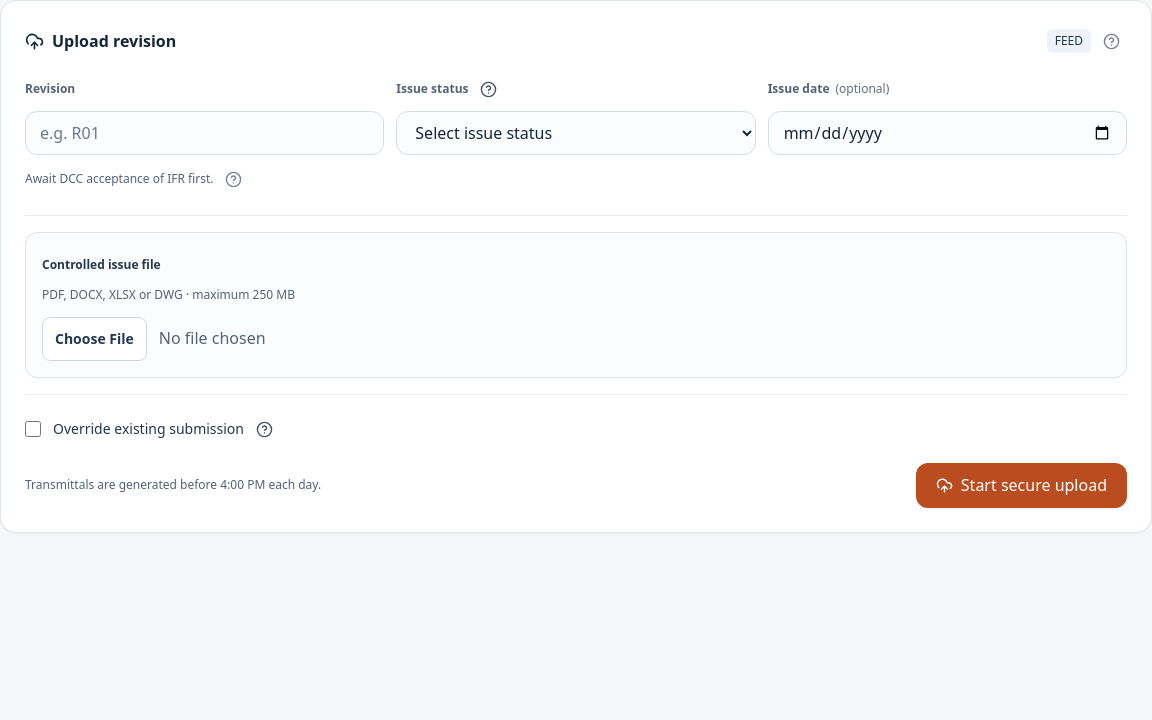
Test: submission override checkbox › defaults off and displays the daily manual transmittal reminder
Type "A" into the field labelled "Revision" at (205, 133), box x1=25 y1=111 x2=384 y2=155
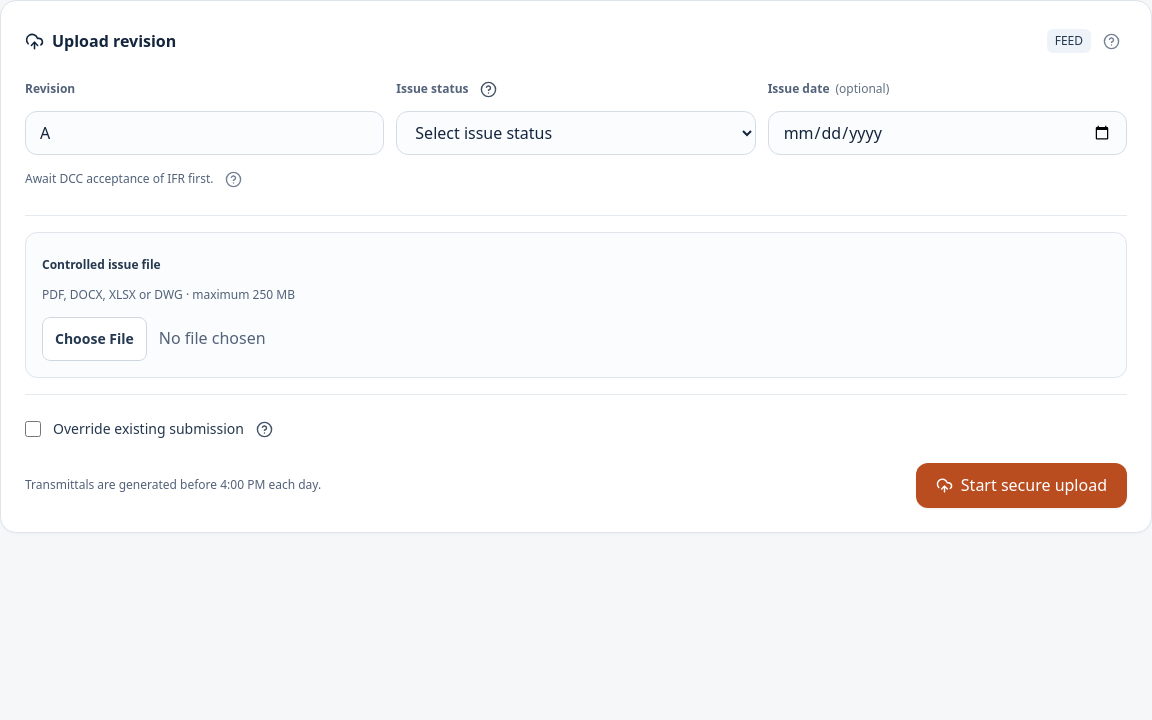
Select "Issued for Review (IFR)" in the dropdown at (576, 133), box x1=396 y1=111 x2=756 y2=155
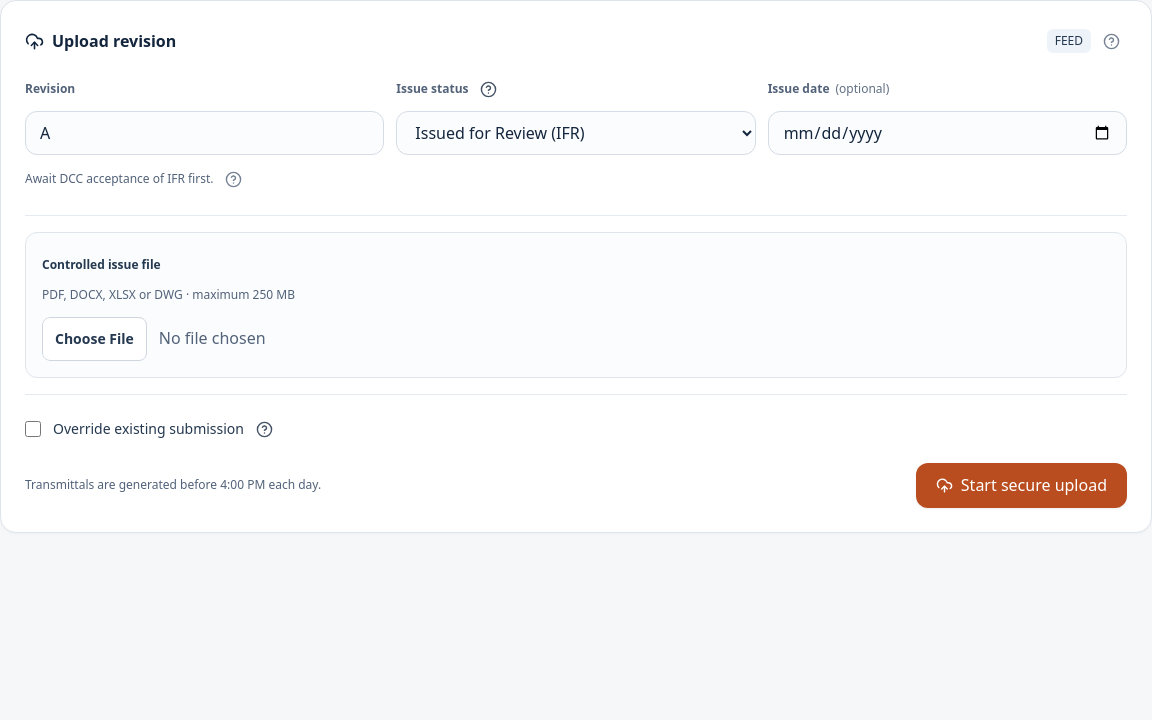
expect the checkbox is not checked: met, box x1=25 y1=421 x2=41 y2=437
expect the text "Transmittals are generated before 4:00 PM each day." is shown: met, box x1=25 y1=475 x2=321 y2=495
Hover over the button named "About submission overrides" at (264, 429), box x1=248 y1=413 x2=280 y2=445
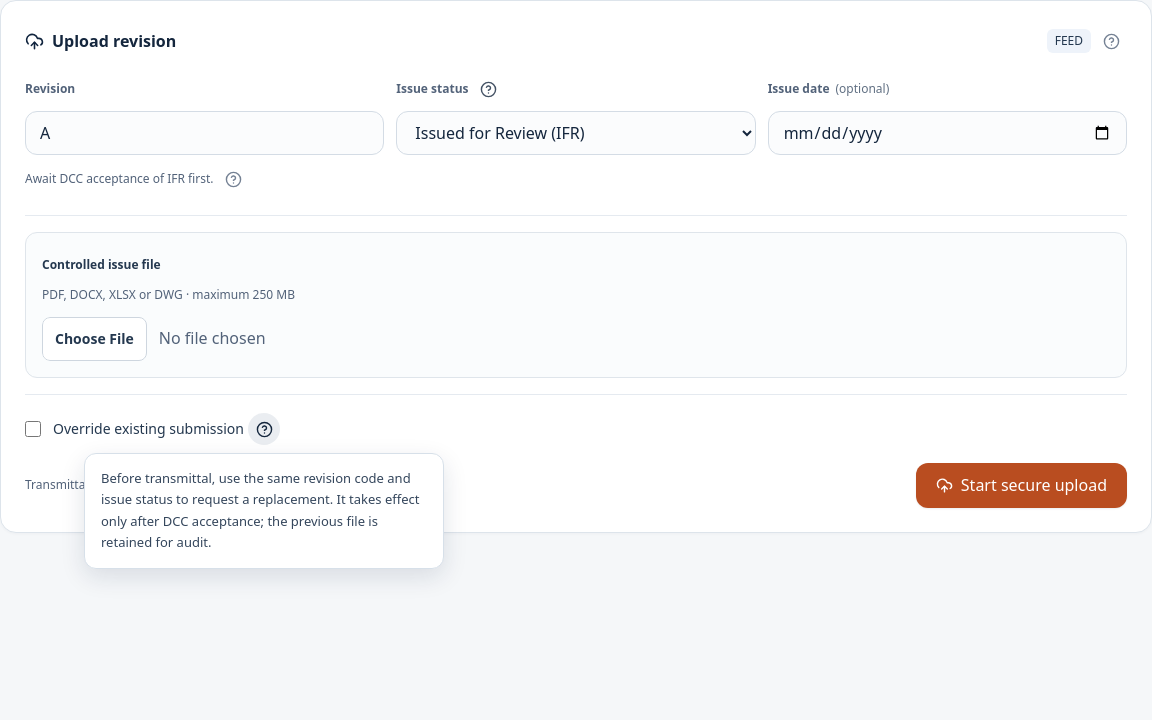
expect the tooltip shows "same revision code": met, box x1=101 y1=469 x2=419 y2=551
expect the tooltip shows "only after DCC acceptance": met, box x1=101 y1=469 x2=419 y2=551
expect the tooltip shows "previous file is retained for audit": met, box x1=101 y1=469 x2=419 y2=551
